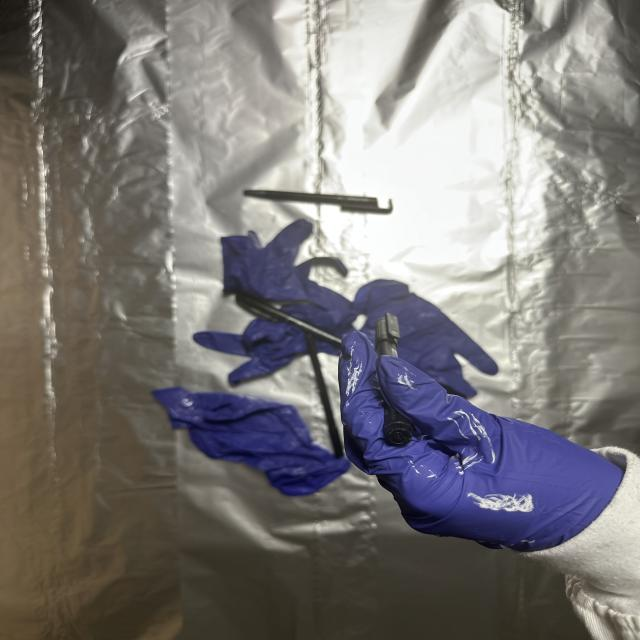gloves_contaminated: (339, 332, 623, 551)
